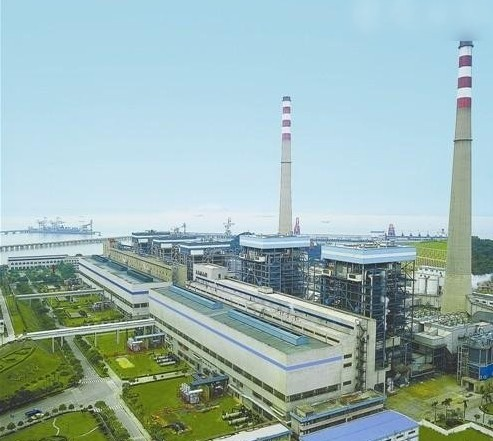dust: (381, 1, 490, 47)
